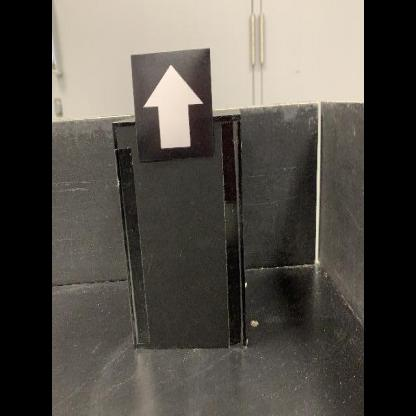up: (129, 47, 216, 165)
